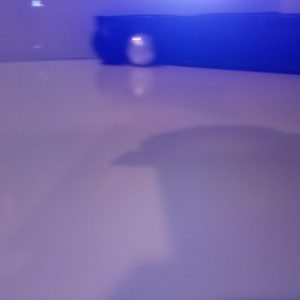alive_ball: (127, 33, 155, 65)
dead_ball: (93, 22, 128, 62)
